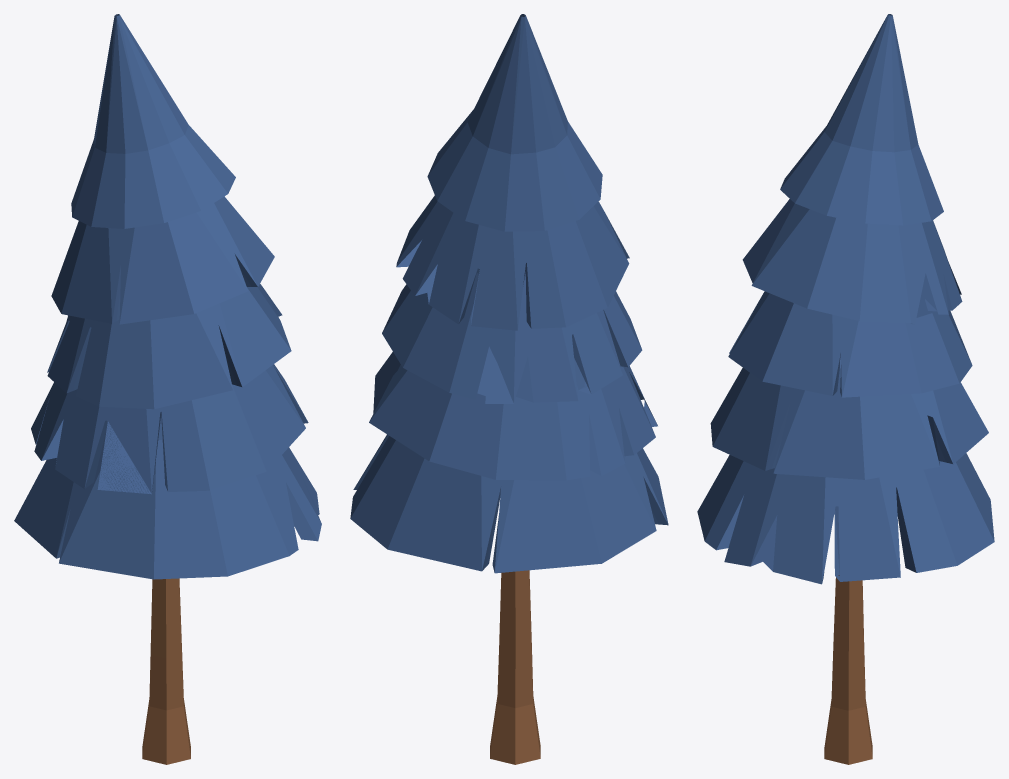
The model's file is Tree_8.fbx.
3 renders of one model, left to right at view 1: azimuth 30°, elevation 25°; view 2: azimuth 150°, elevation 25°; view 3: azimuth 270°, elevation 25°, orthographic. The views are drawn at different scales.
Visible parts, largest first — view 1: Tree_8_LOD0; view 2: Tree_8_LOD0; view 3: Tree_8_LOD0.
Boxes of the visible parts, left/top/right/bottom form: Tree_8_LOD0: left=14, top=14, right=321, bottom=764; Tree_8_LOD0: left=350, top=14, right=668, bottom=764; Tree_8_LOD0: left=697, top=14, right=994, bottom=764.
Size of what is drawn, in the model's own units: 84.23 by 220 by 81.85.
